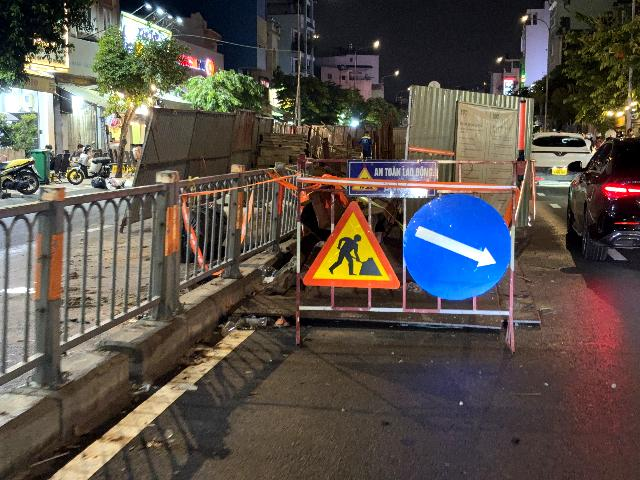cong-truong-dang-thi-cong: (303, 200, 400, 290)
huong-phai-di-vong-chuong-ngai-vat: (403, 192, 512, 300)
